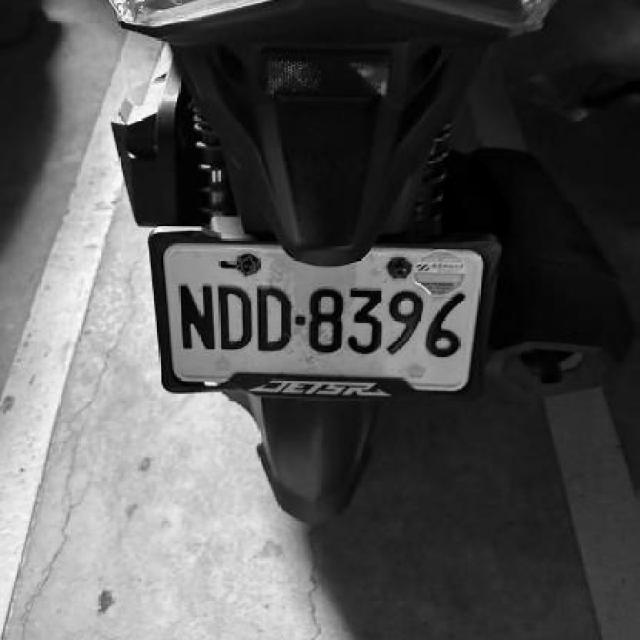-: (296, 314, 306, 328)
3: (345, 280, 383, 354)
6: (423, 285, 466, 360)
8: (308, 282, 346, 356)
9: (383, 287, 426, 358)
D: (254, 277, 294, 349), (214, 277, 252, 349)
N: (177, 280, 218, 349)
